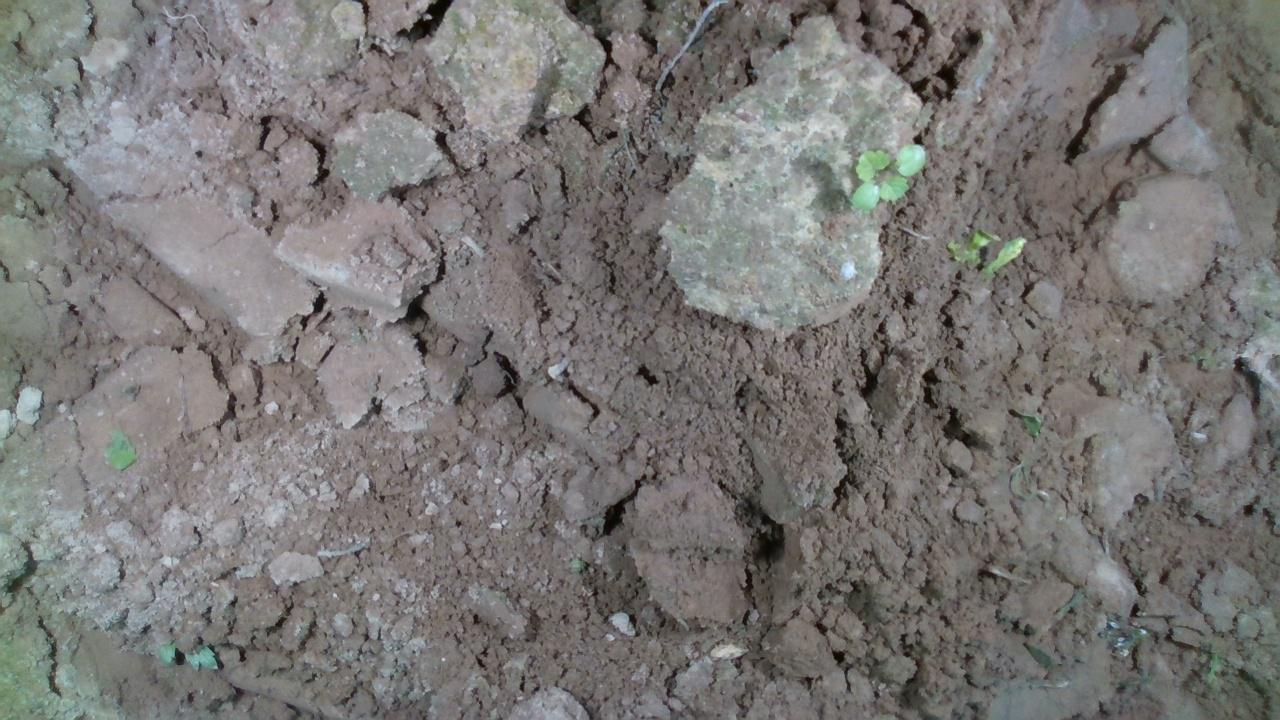weed: (847, 142, 925, 211)
